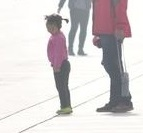person: (93, 29, 133, 116), (43, 13, 74, 116)
